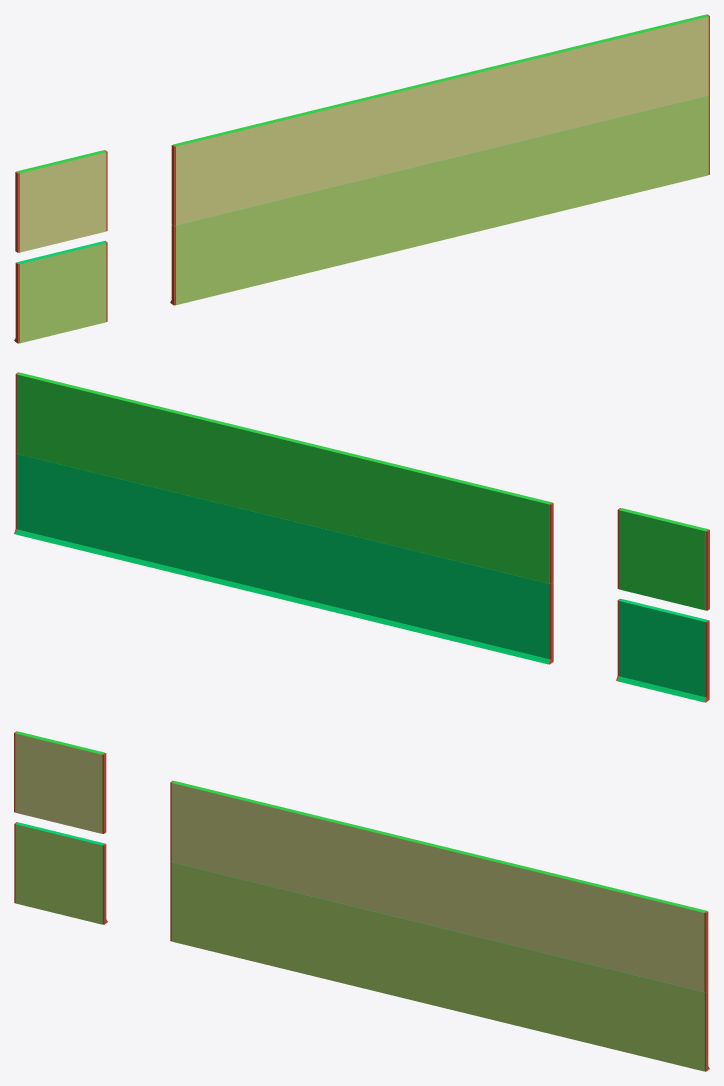
File: Cristales.fbx
3 views of the same model, one above another, from view 1: azimuth 30°, elevation 25°; view 2: azimuth 150°, elevation 25°; view 3: azimuth 330°, elevation 25° (orthographic).
Parts seen in each view (by area): view 1: CristalAbajoGr, CristalArribaGr, CristalArriba3.003, CristalAbajo3.003, CristalArribaGr.002, CristalAbajo3.002, CristalArriba3.002, CristalArribaGr.001, CristalAbajoGr.001; view 2: CristalArribaGr.002, CristalAbajoGr.002, CristalAbajo3.001, CristalArriba3.001, CristalAbajo3.002, CristalAbajoGr.001, CristalArribaGr.001, CristalArriba3.002; view 3: CristalAbajoGr, CristalArribaGr, CristalAbajo3.003, CristalArriba3.003, CristalArribaGr.002, CristalAbajo3.002, CristalArribaGr.001, CristalArriba3.002, CristalAbajoGr.001.
Boxes of the visible parts, left/top/right/bottom form: CristalAbajoGr: left=176, top=96, right=708, bottom=305; CristalArribaGr: left=176, top=16, right=708, bottom=225; CristalArriba3.003: left=19, top=152, right=106, bottom=252; CristalAbajo3.003: left=19, top=243, right=106, bottom=343; CristalArribaGr.002: left=173, top=14, right=707, bottom=225; CristalAbajo3.002: left=14, top=241, right=107, bottom=343; CristalArriba3.002: left=15, top=150, right=107, bottom=252; CristalArribaGr.001: left=171, top=14, right=709, bottom=225; CristalAbajoGr.001: left=170, top=95, right=709, bottom=305; CristalArribaGr.002: left=17, top=372, right=551, bottom=583; CristalAbajoGr.002: left=15, top=454, right=549, bottom=664; CristalAbajo3.001: left=617, top=599, right=707, bottom=702; CristalArriba3.001: left=619, top=508, right=708, bottom=610; CristalAbajo3.002: left=616, top=599, right=709, bottom=702; CristalAbajoGr.001: left=14, top=453, right=553, bottom=664; CristalArribaGr.001: left=15, top=372, right=553, bottom=583; CristalArriba3.002: left=617, top=508, right=709, bottom=610; CristalAbajoGr: left=171, top=862, right=704, bottom=1071; CristalArribaGr: left=171, top=783, right=703, bottom=991; CristalAbajo3.003: left=15, top=824, right=102, bottom=924; CristalArriba3.003: left=15, top=733, right=101, bottom=833; CristalArribaGr.002: left=172, top=781, right=706, bottom=991; CristalAbajo3.002: left=14, top=822, right=107, bottom=924; CristalArribaGr.001: left=170, top=780, right=708, bottom=992; CristalArriba3.002: left=14, top=731, right=106, bottom=833; CristalAbajoGr.001: left=170, top=861, right=709, bottom=1071.
Size of the model in its own units: 2742 by 644 by 30.59.
